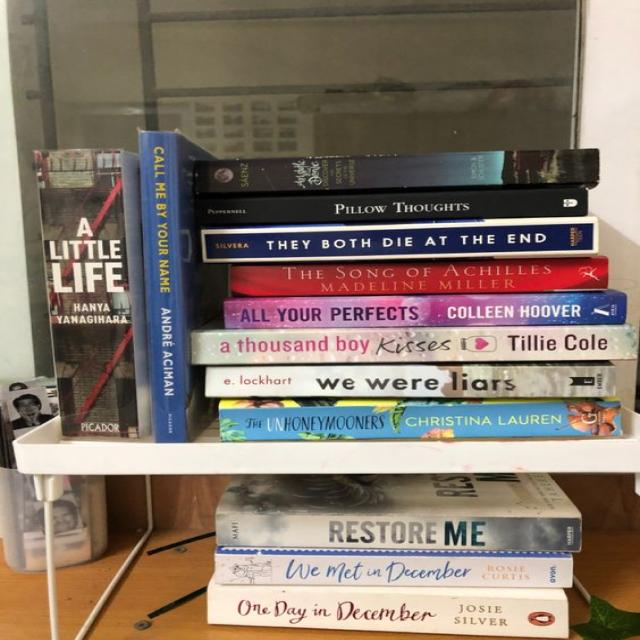book: (31, 150, 141, 438), (206, 587, 568, 638), (194, 151, 599, 196), (189, 328, 637, 366), (199, 220, 599, 262), (138, 130, 188, 444), (217, 406, 622, 443), (229, 259, 610, 298), (194, 189, 586, 226), (214, 513, 583, 551), (223, 294, 626, 328), (215, 553, 573, 588), (205, 367, 618, 397)
